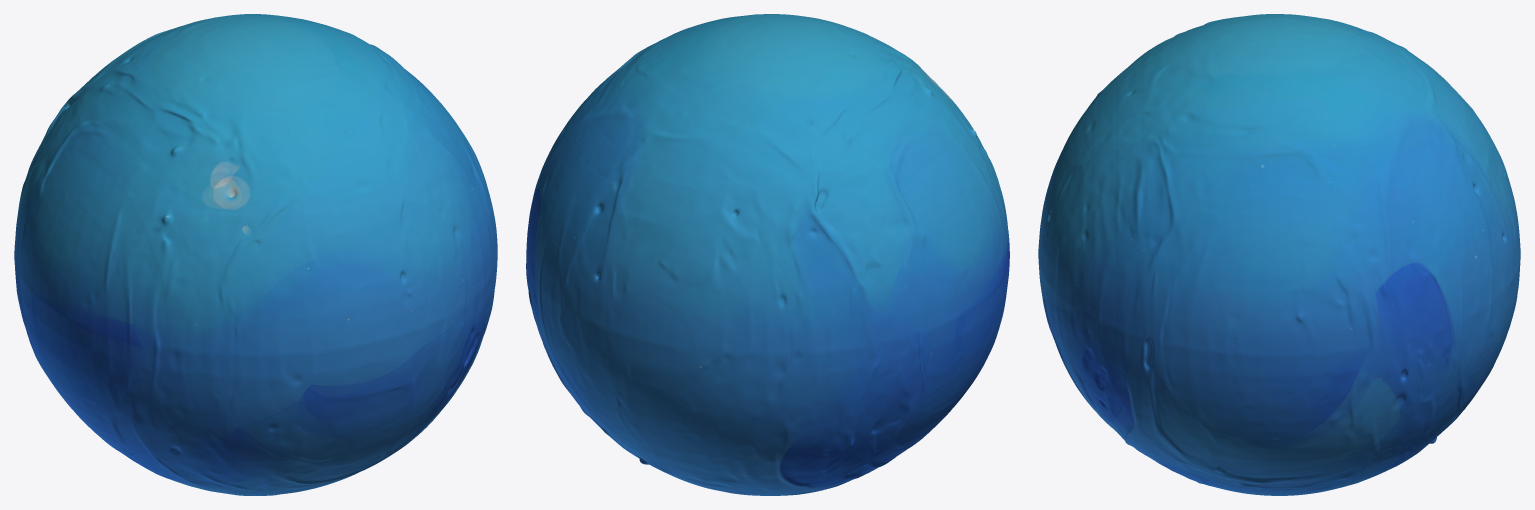
Rendered from tripo_convert_e13edf99-3247-4290-b191-a352706cf64c.fbx.
3 views of the same model, side by side, from view 1: azimuth 30°, elevation 25°; view 2: azimuth 150°, elevation 25°; view 3: azimuth 270°, elevation 25° (orthographic).
Parts seen in each view (by area): view 1: tripo_node_e13edf99; view 2: tripo_node_e13edf99; view 3: tripo_node_e13edf99.
Boxes of the visible parts, left/top/right/bottom form: tripo_node_e13edf99: left=14, top=14, right=497, bottom=495; tripo_node_e13edf99: left=526, top=14, right=1009, bottom=495; tripo_node_e13edf99: left=1038, top=14, right=1520, bottom=495.
Size of the model in its own units: 0.9992 by 0.9997 by 1.
1 material, 1 textured.
